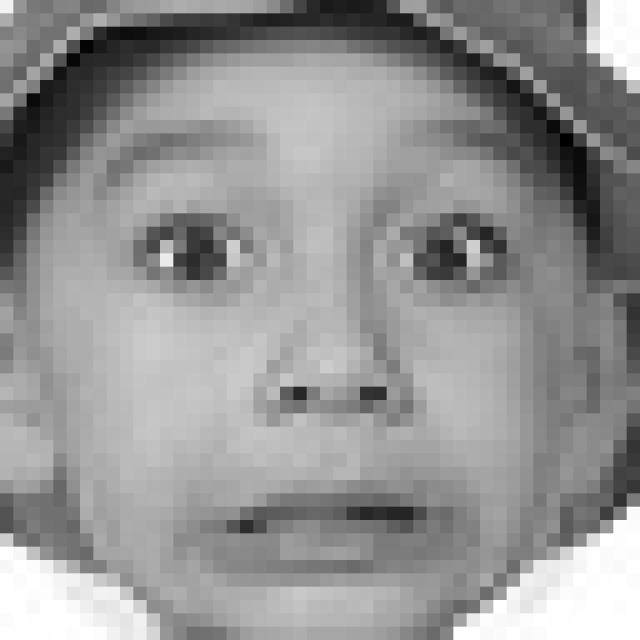fear: (98, 113, 547, 590)
